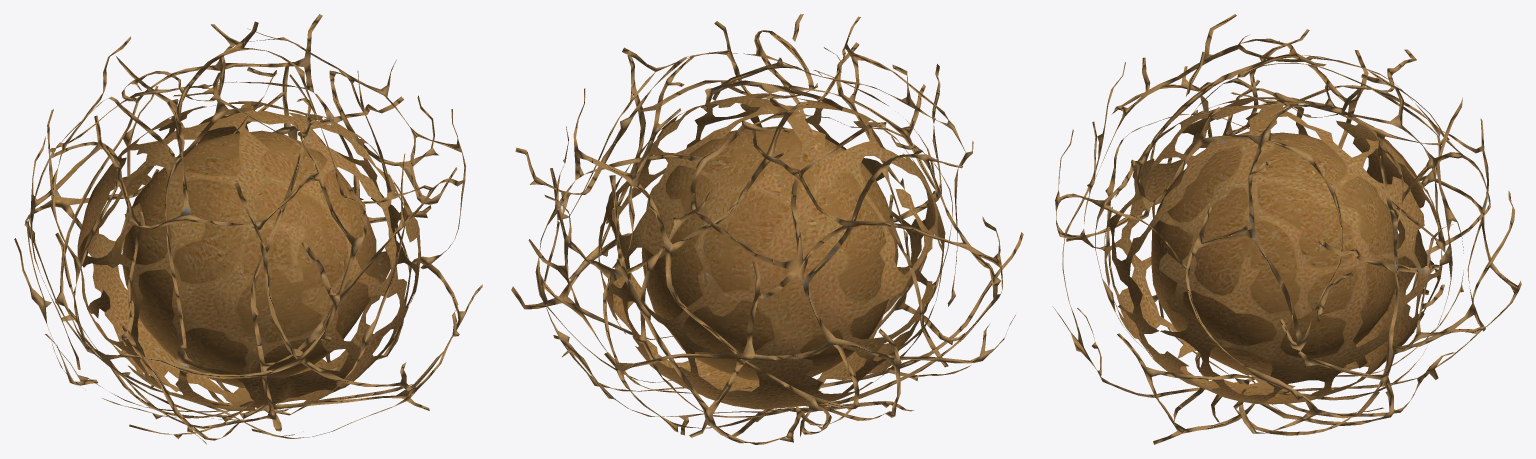
File: Tumbleweed3.glb
3 renders of one model, left to right at view 1: azimuth 30°, elevation 25°; view 2: azimuth 150°, elevation 25°; view 3: azimuth 270°, elevation 25°, orthographic. The views are drawn at different scales.
Visible parts, largest first — view 1: tripo_node_e0925646-6f5e-4959-8a05-907a4e3e81cd; view 2: tripo_node_e0925646-6f5e-4959-8a05-907a4e3e81cd; view 3: tripo_node_e0925646-6f5e-4959-8a05-907a4e3e81cd.
Part boxes in pixels (x1,y1,x2,y2): tripo_node_e0925646-6f5e-4959-8a05-907a4e3e81cd: (14,14,482,444); tripo_node_e0925646-6f5e-4959-8a05-907a4e3e81cd: (511,14,1023,444); tripo_node_e0925646-6f5e-4959-8a05-907a4e3e81cd: (1052,14,1521,444).
Bounding box in the file's own units: 0.2382 × 0.2 × 0.2345.
Materials: 1 (1 with a texture image).
